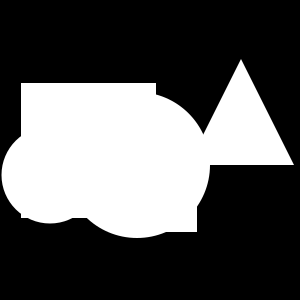circle: (21, 83, 156, 218), (109, 144, 197, 232)
rectangle: (64, 92, 210, 238), (2, 127, 98, 224)
triangle: (188, 59, 294, 165)
